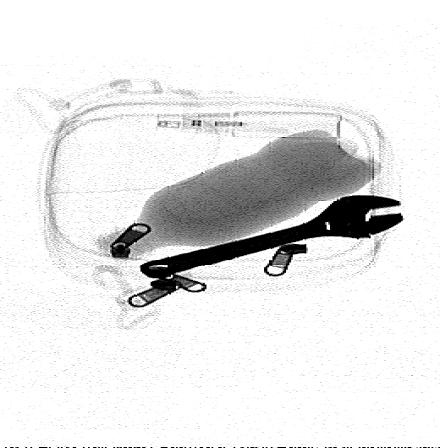Wrench: (137, 195, 407, 279)
